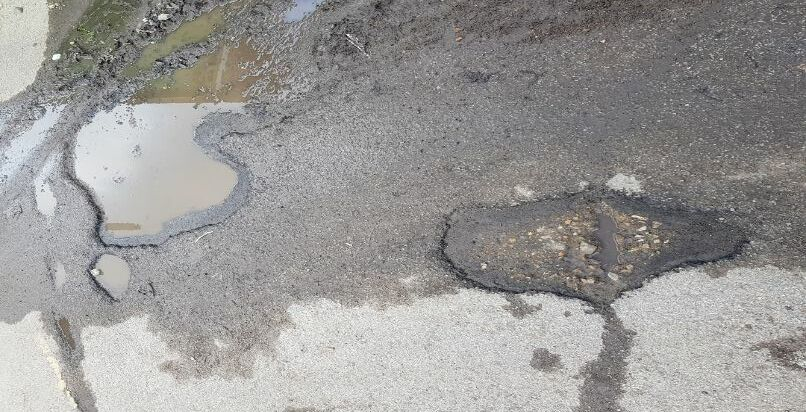pothole: (59, 42, 303, 249), (431, 185, 748, 314), (82, 250, 133, 304)
